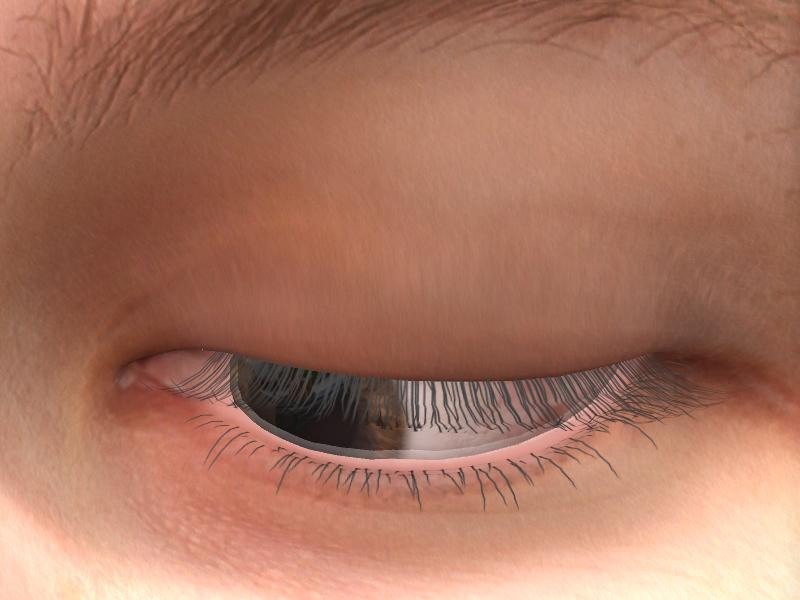eye: (238, 353, 406, 462)
